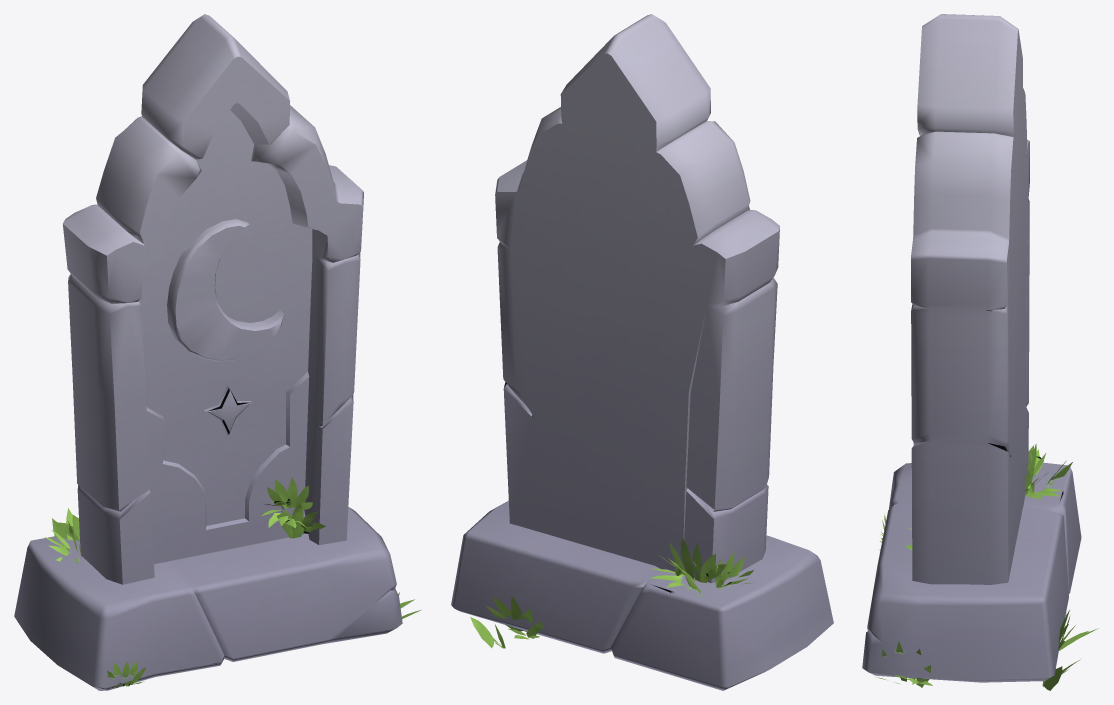
Rendered from kit-gravestone.glb.
The picture shows the model from 3 angles, left to right: view 1: azimuth 30°, elevation 25°; view 2: azimuth 150°, elevation 25°; view 3: azimuth 270°, elevation 25°; orthographic projection.
Visible parts, largest first — view 1: WBA_Gravestone_Set_01_WBA_MAT_Halloween_Atlas_0.001; view 2: WBA_Gravestone_Set_01_WBA_MAT_Halloween_Atlas_0.001; view 3: WBA_Gravestone_Set_01_WBA_MAT_Halloween_Atlas_0.001.
Part boxes in pixels (x1=…): WBA_Gravestone_Set_01_WBA_MAT_Halloween_Atlas_0.001: x1=14, y1=14, x2=421, y2=690; WBA_Gravestone_Set_01_WBA_MAT_Halloween_Atlas_0.001: x1=451, y1=14, x2=833, y2=690; WBA_Gravestone_Set_01_WBA_MAT_Halloween_Atlas_0.001: x1=862, y1=14, x2=1098, y2=690.
Bounding box in the file's own units: 0.4688 × 0.8606 × 0.2962.
1 material, 1 textured.
